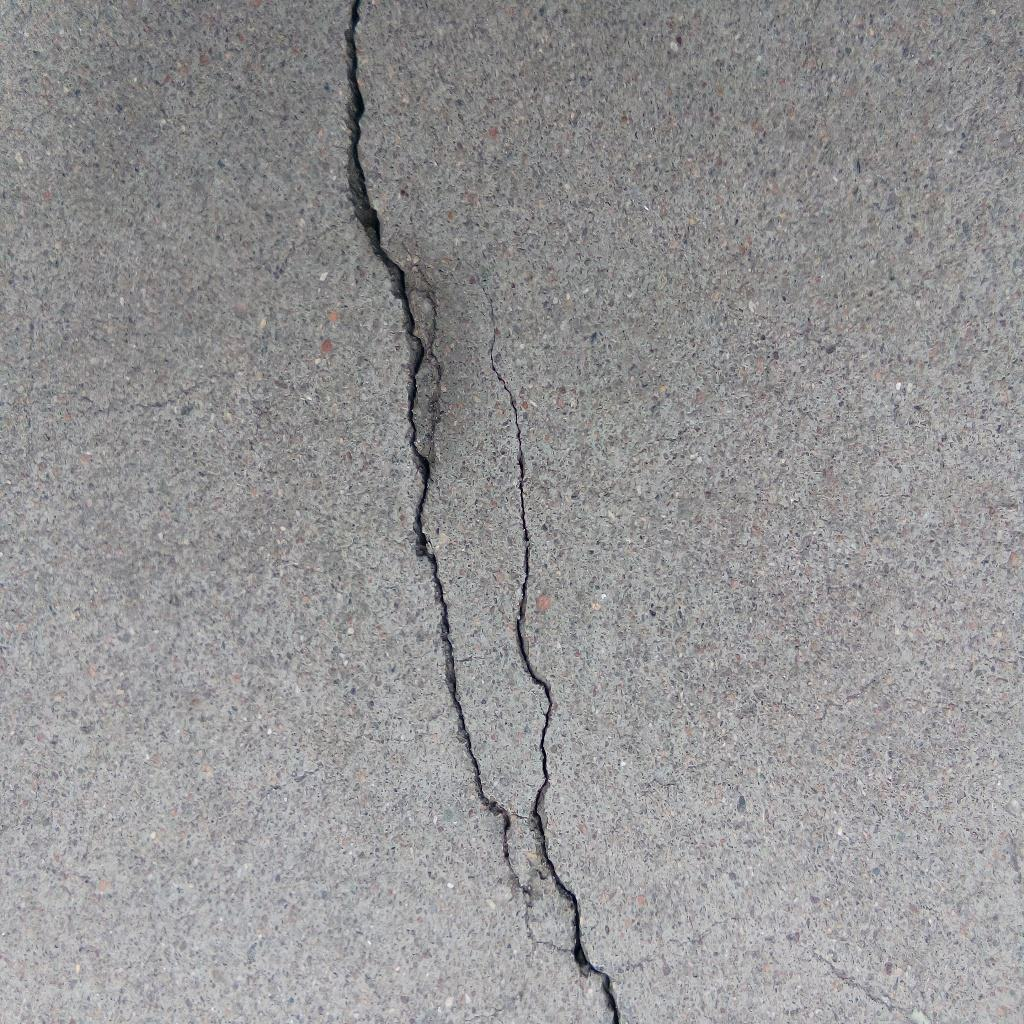Crack: (345, 1, 534, 897), (476, 279, 622, 1024)
